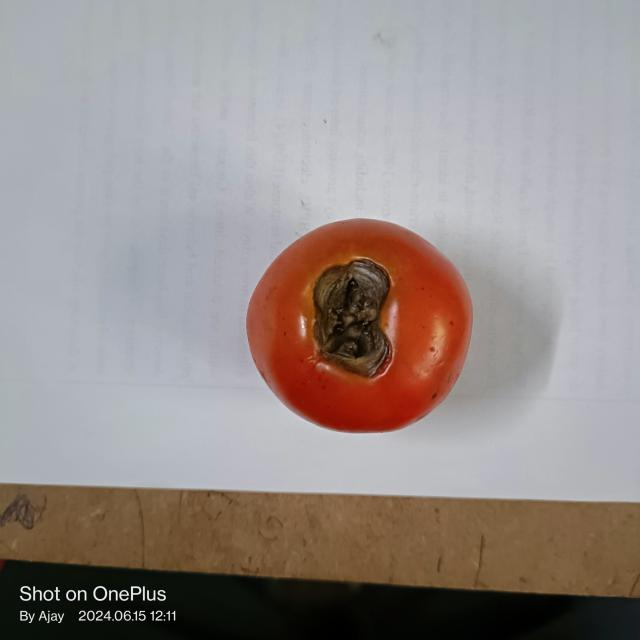Anthrocnose: (310, 257, 397, 378)
